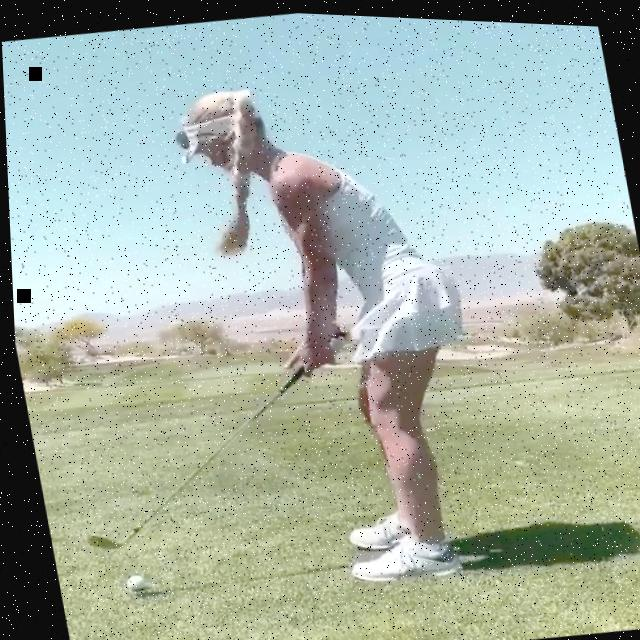ClubHead: (81, 531, 112, 549)
GolfBall: (120, 572, 142, 591)
